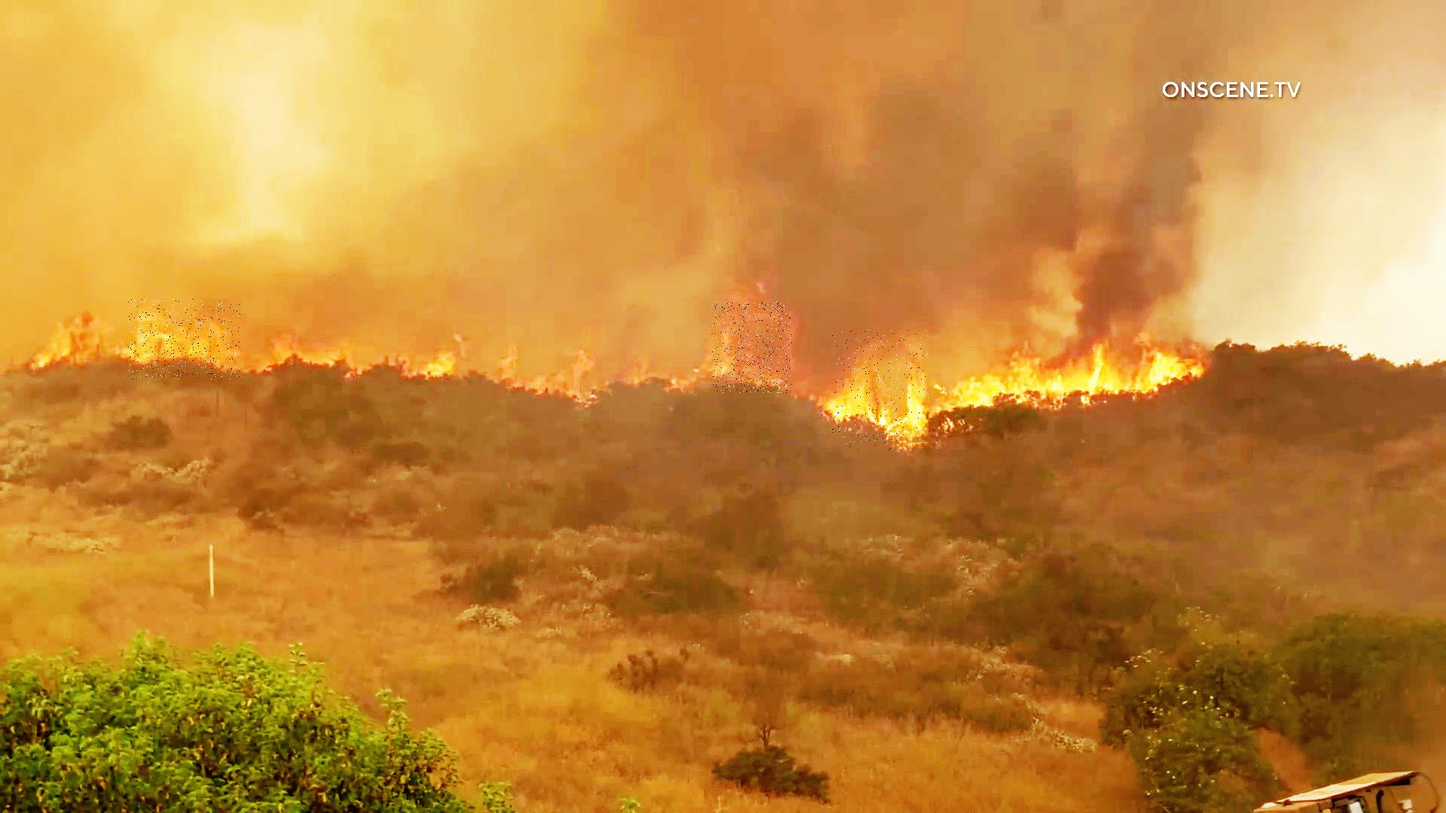fire: (832, 330, 929, 450), (128, 299, 241, 380), (712, 301, 792, 393), (955, 343, 963, 349)
